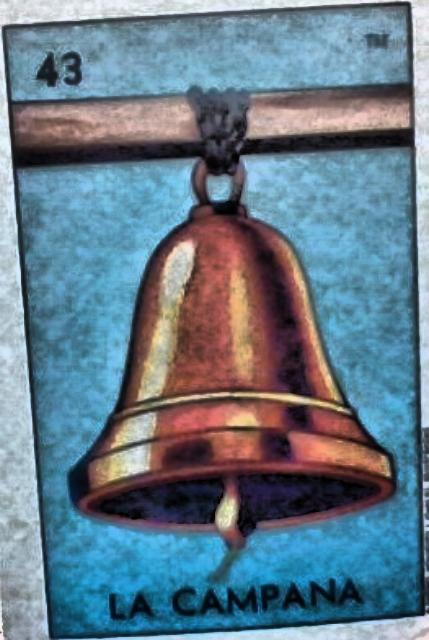La Campana: (5, 7, 421, 637)
